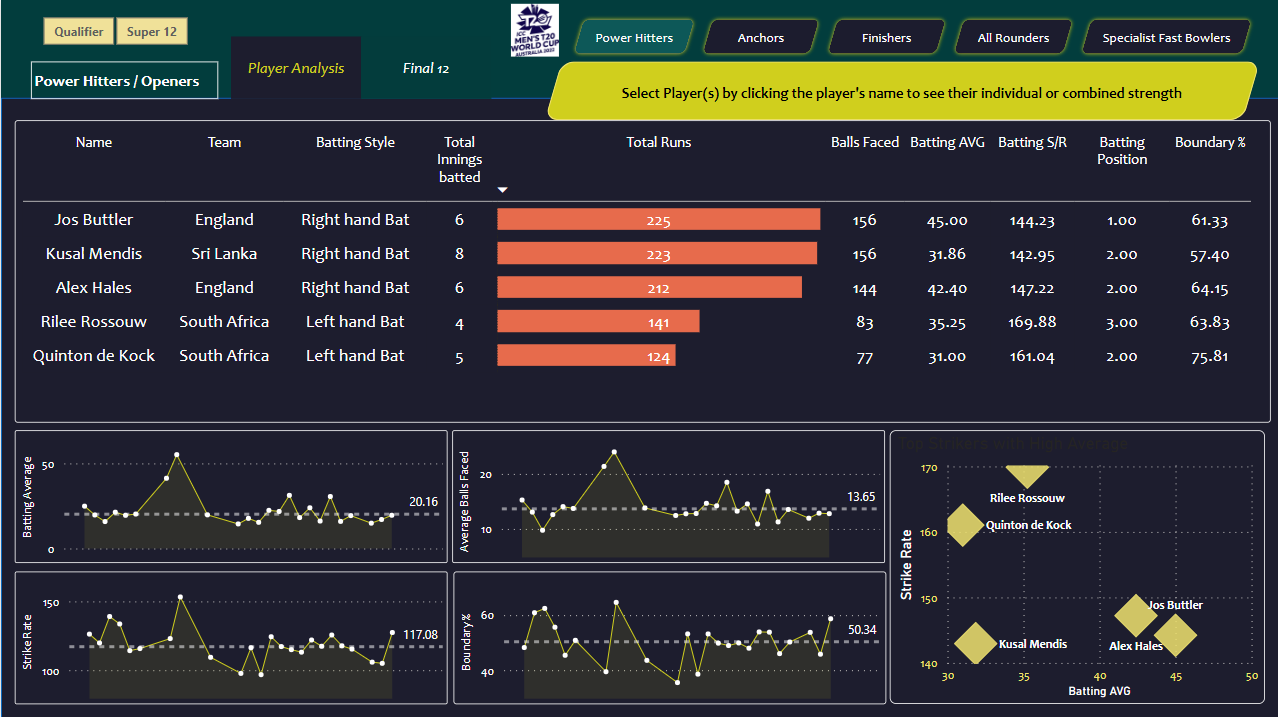

Layout of this report page (visuals, bound fields, positions):
{"tool":"powerbi","page":{"name":"Power Hitters/Openers","canvas":[1280,720],"ordinal":0},"visuals":[{"type":"shape","box":[13.8,112.5,1255,311.2],"z":0},{"type":"shape","box":[926.2,440,343.8,265],"z":1000},{"type":"shape","box":[16.2,112.5,1247.5,247.5],"z":2000},{"type":"shape","box":[0,98.8,1280,621.2],"z":3000},{"type":"tableEx","fields":{"Values":["dim_players.name","dim_players.team","dim_players.battingStyle","Key_majors.Total Innings batted","Key_majors.Total Runs","Key_majors.Total Balls Faced","Key_majors.Batting Average","Key_majors.Strike Rate","Key_majors.Batting Position","Key_majors.Boundary %"]},"box":[13.8,121.2,1256.2,302.5],"z":4000},{"type":"scatterChart","title":"Top Strikers with High Average","fields":{"X":["Key_majors.Batting Average"],"Y":["Key_majors.Strike Rate"],"Category":["dim_players.name"]},"box":[888.8,431.2,375,273.8],"z":5000},{"type":"slicer","fields":{"Values":["dim_match_summary.Stage"]},"box":[15.7,10.9,194.2,41],"z":6000},{"type":"shape","box":[30,62.5,187.5,37.5],"z":7000},{"type":"shape","box":[543.8,62.5,715,58.8],"z":8000},{"type":"card","fields":{"Values":["Key_majors.Batting Average"]},"box":[735,56.6,132.5,63.8],"z":9000},{"type":"card","fields":{"Values":["Key_majors.Strike Rate"]},"box":[859.2,56.6,132.5,63.8],"z":10000},{"type":"card","fields":{"Values":["Key_majors.Average Balls Faced"]},"box":[1107.5,56.6,132.5,63.8],"z":11000},{"type":"card","fields":{"Values":["Key_majors.Boundary %"]},"box":[983.3,56.6,132.5,63.8],"z":12000},{"type":"shape","box":[569.2,73.6,155.6,36.2],"z":13000},{"type":"actionButton","box":[568.8,16.2,128.8,42.5],"z":14000},{"type":"actionButton","box":[697.5,16.2,125,42.5],"z":15000},{"type":"actionButton","box":[822.5,16.2,126.2,42.5],"z":16000},{"type":"actionButton","box":[948.8,16.2,127.5,42.5],"z":17000},{"type":"actionButton","box":[1076.2,16.2,178.8,42.5],"z":18000},{"type":"stackedAreaChart","fields":{"Y":["Key_majors.Batting Average"],"Category":["dim_match_summary.matchDate.Variation.Date Hierarchy.Day"]},"box":[13.3,431.8,433,132.7],"z":19000},{"type":"stackedAreaChart","fields":{"Category":["dim_match_summary.matchDate.Variation.Date Hierarchy.Day"],"Y":["Key_majors.Average Balls Faced"]},"box":[451.1,431.8,433,132.7],"z":20000},{"type":"stackedAreaChart","fields":{"Category":["dim_match_summary.matchDate.Variation.Date Hierarchy.Day"],"Y":["Key_majors.Boundary %"]},"box":[452,572.9,433,132.7],"z":21000},{"type":"stackedAreaChart","fields":{"Category":["dim_match_summary.matchDate.Variation.Date Hierarchy.Day"],"Y":["Key_majors.Strike Rate"]},"box":[13.3,572.9,433,132.7],"z":22000},{"type":"image","box":[499.3,0,69.9,62.7],"z":23000},{"type":"actionButton","box":[230.4,37.4,130.3,62.7],"z":24000},{"type":"actionButton","box":[360.6,37.4,130.3,62.7],"z":25000},{"type":"shape","box":[611.5,76,578.9,36.2],"z":26000}]}

Visuals, with their boxes in screenshot pixels (x1, y1, x2, y2), scaled from the page's 1280x720 canvas onto the 1278x717 screenshot:
shape: [14,112,1267,422]
shape: [925,438,1268,702]
shape: [16,112,1262,358]
shape: [0,98,1277,716]
tableEx - dim_players.name x dim_players.team: [14,121,1268,422]
"Top Strikers with High Average" scatterChart: [887,429,1262,702]
slicer - dim_match_summary.Stage: [16,11,210,52]
shape: [30,62,217,100]
shape: [543,62,1257,121]
card - Key_majors.Batting Average: [734,56,866,120]
card - Key_majors.Strike Rate: [858,56,990,120]
card - Key_majors.Average Balls Faced: [1106,56,1238,120]
card - Key_majors.Boundary %: [982,56,1114,120]
shape: [568,73,724,109]
actionButton: [568,16,697,58]
actionButton: [696,16,821,58]
actionButton: [821,16,947,58]
actionButton: [947,16,1075,58]
actionButton: [1075,16,1253,58]
stackedAreaChart - Key_majors.Batting Average x dim_match_summary.matchDate.Variation.Date Hierarchy.Day: [13,430,446,562]
stackedAreaChart - dim_match_summary.matchDate.Variation.Date Hierarchy.Day x Key_majors.Average Balls Faced: [450,430,883,562]
stackedAreaChart - dim_match_summary.matchDate.Variation.Date Hierarchy.Day x Key_majors.Boundary %: [451,571,884,703]
stackedAreaChart - dim_match_summary.matchDate.Variation.Date Hierarchy.Day x Key_majors.Strike Rate: [13,571,446,703]
image: [499,0,568,62]
actionButton: [230,37,360,100]
actionButton: [360,37,490,100]
shape: [611,76,1189,112]
